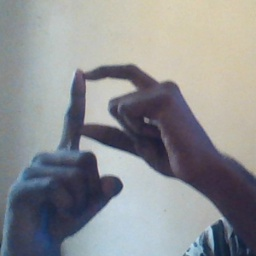D: (54, 61, 175, 175)
